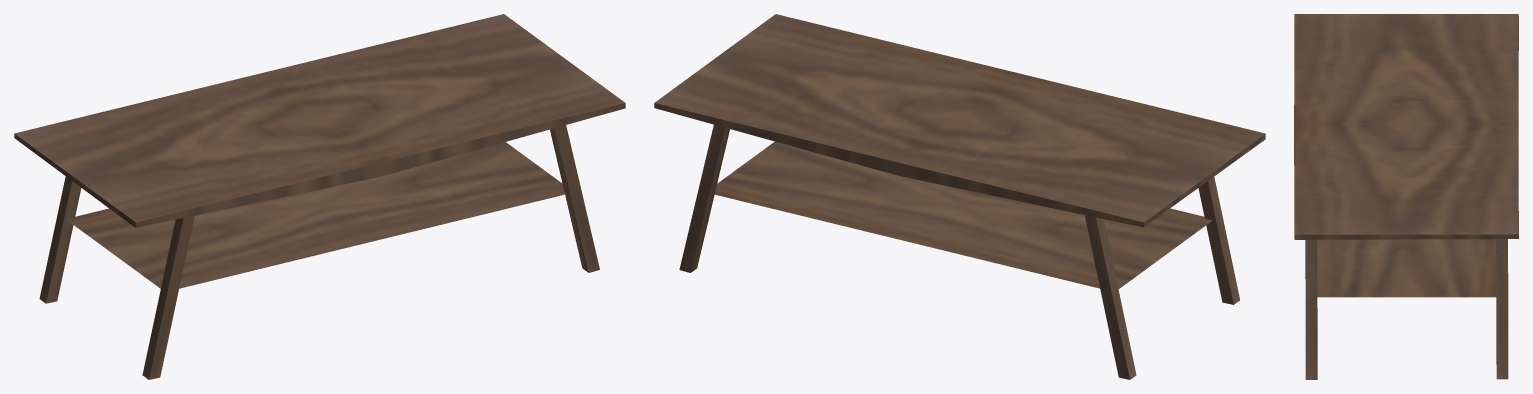
The model's file is TableSalon.fbx.
The picture shows the model from 3 angles, left to right: view 1: azimuth 30°, elevation 25°; view 2: azimuth 150°, elevation 25°; view 3: azimuth 270°, elevation 25°; orthographic projection. The views are drawn at different scales.
Visible parts, largest first — view 1: Cube; view 2: Cube; view 3: Cube.
Boxes of the visible parts, box(x1,y1,x2,y2) form: Cube: box(14, 14, 625, 379); Cube: box(654, 14, 1265, 379); Cube: box(1294, 14, 1518, 379).
Size of the model in its own units: 466 by 152 by 201.
